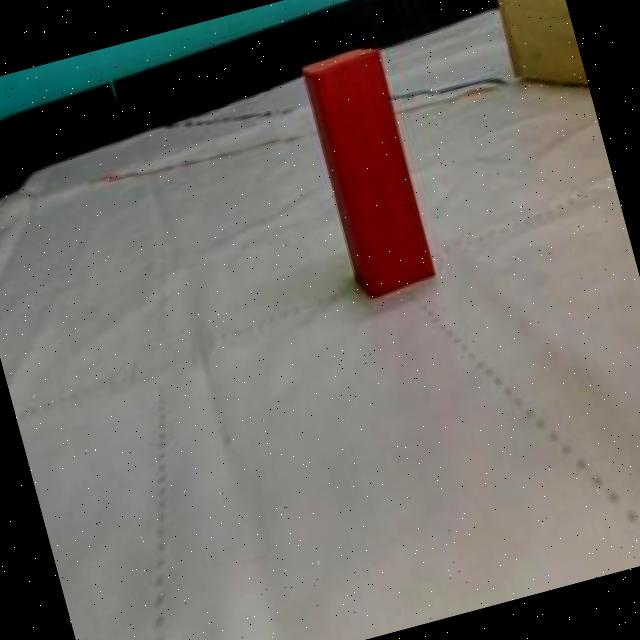redbox: (294, 41, 442, 302)
